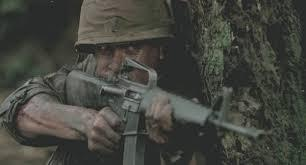rifle: (63, 57, 270, 165)
